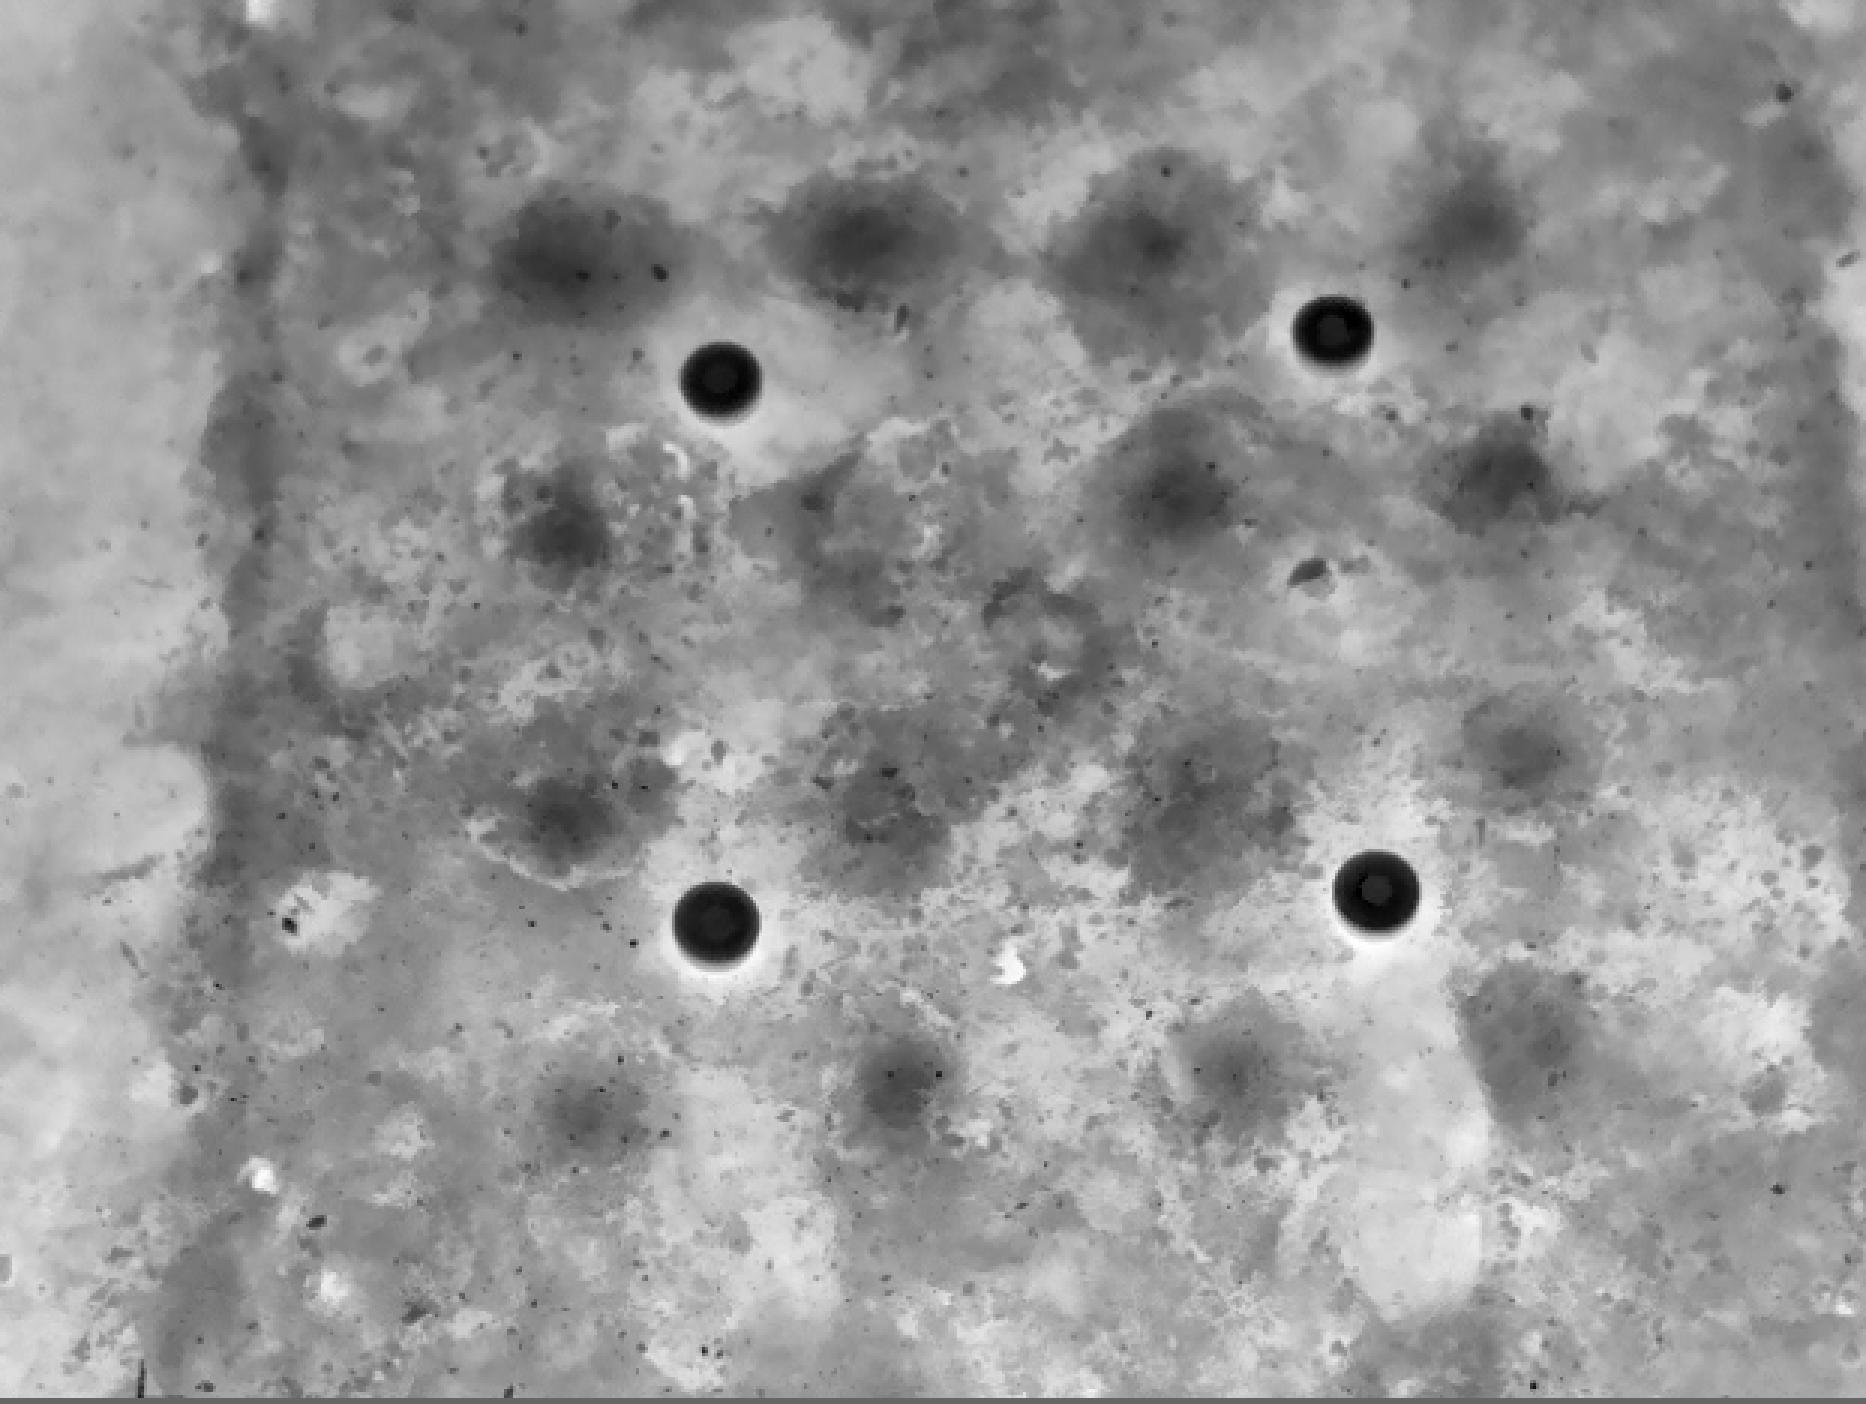mines-gjV8: (668, 338, 763, 419), (1345, 848, 1423, 941), (1295, 288, 1384, 363), (687, 872, 757, 962)
